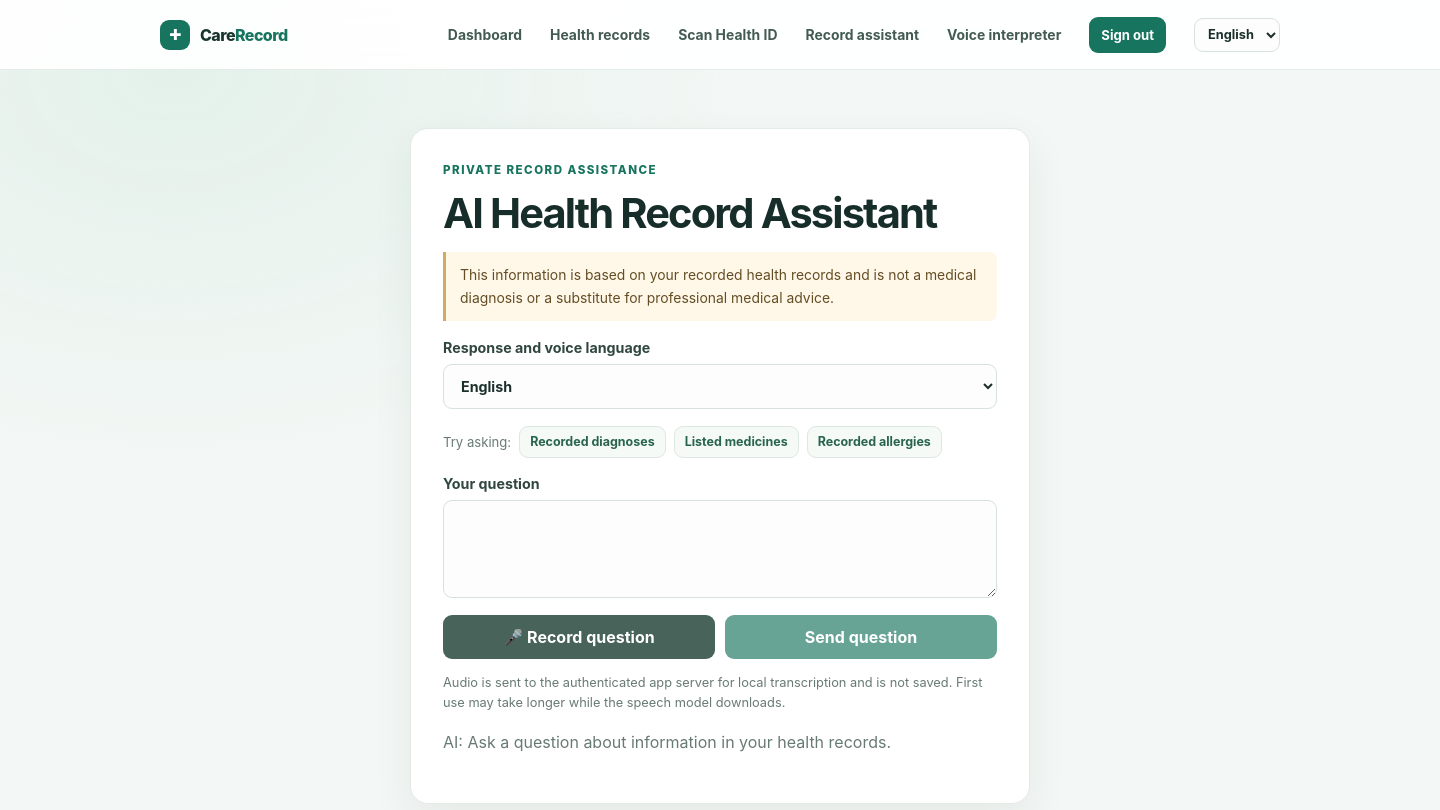
Scenario: patient web flow › does not speak with an unavailable selected-language voice
Select "Telugu" in the dropdown labelled "Response and voice language" at {"x": 720, "y": 386}, box [443,364,997,409]
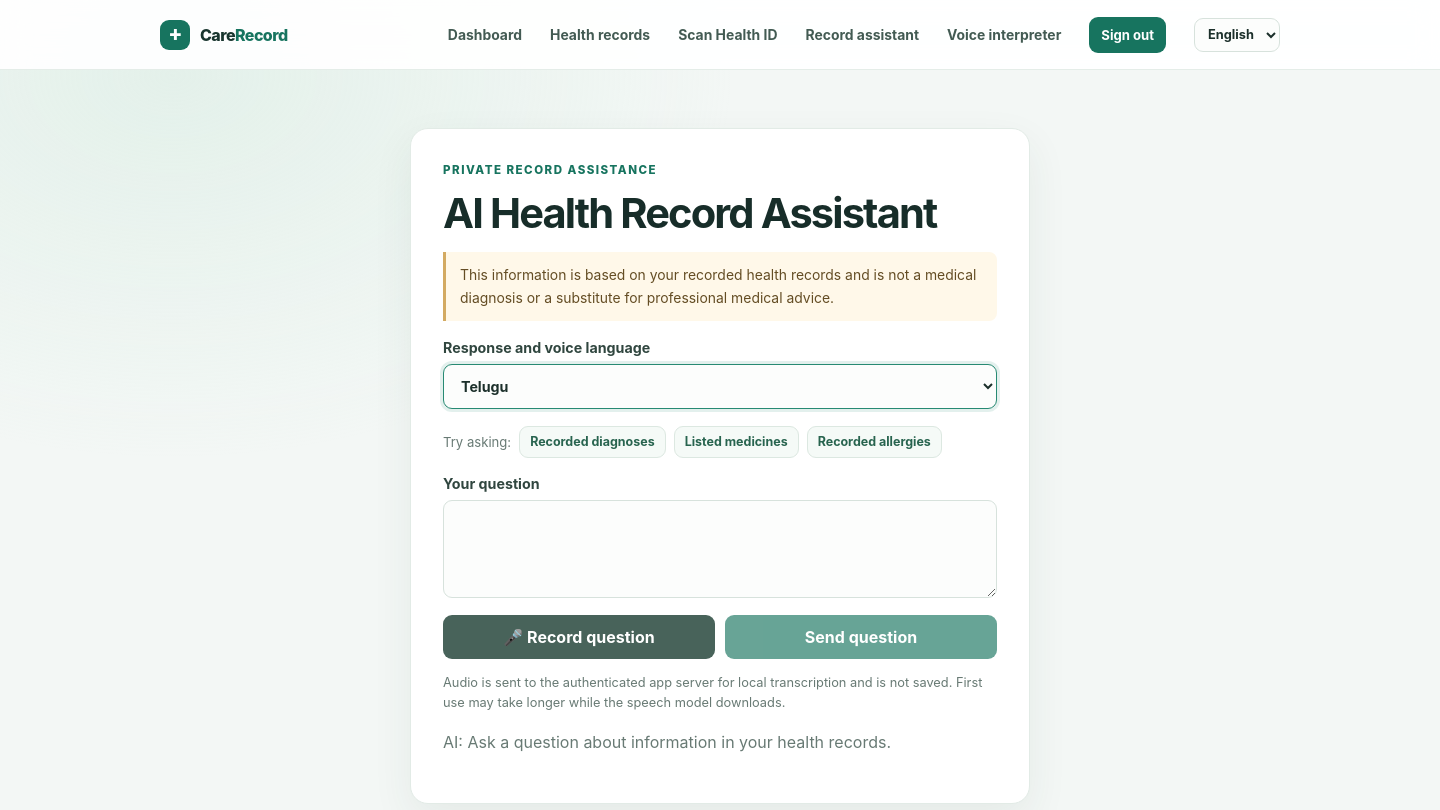
Type "మందులు ఏమిటి?" into the text box labelled "Your question" at {"x": 720, "y": 549}, box [443,500,997,598]
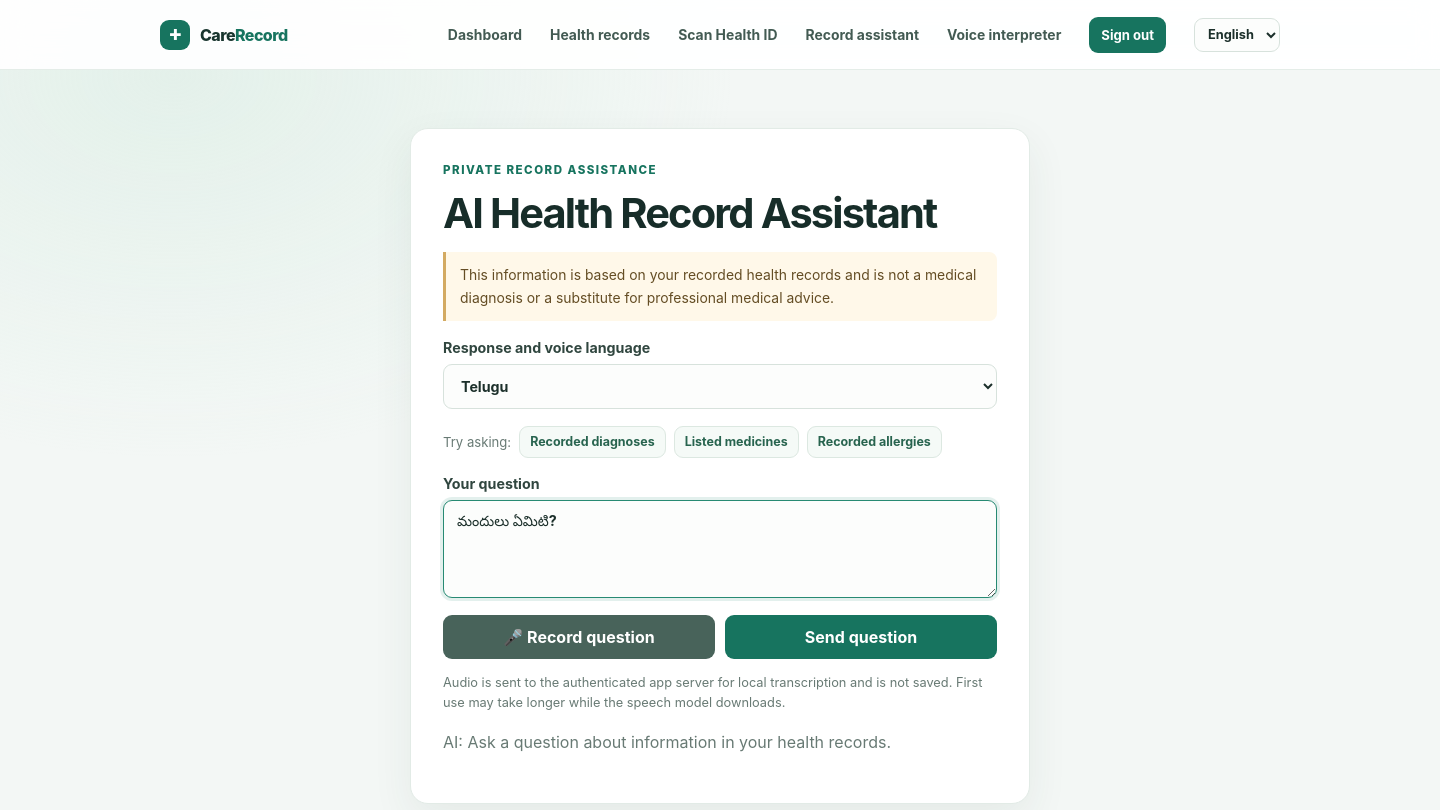
Click the button "Send question" at {"x": 861, "y": 637}, box [725,615,997,659]
(page scrolled)
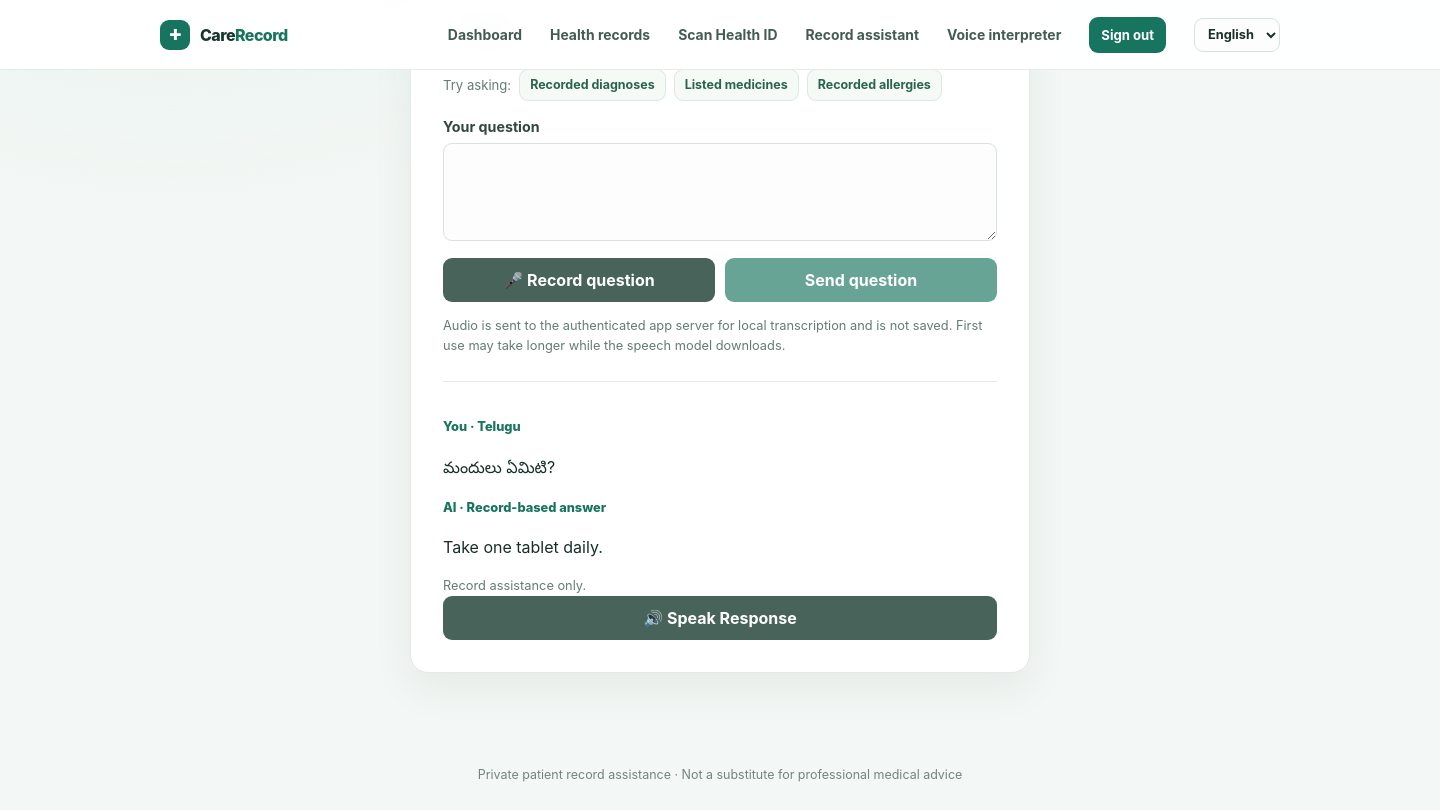
Expected: the text "Take one tablet daily." is shown, [443,538,603,558]
Click the button "🔊 Speak Response" at {"x": 720, "y": 618}, box [443,596,997,640]
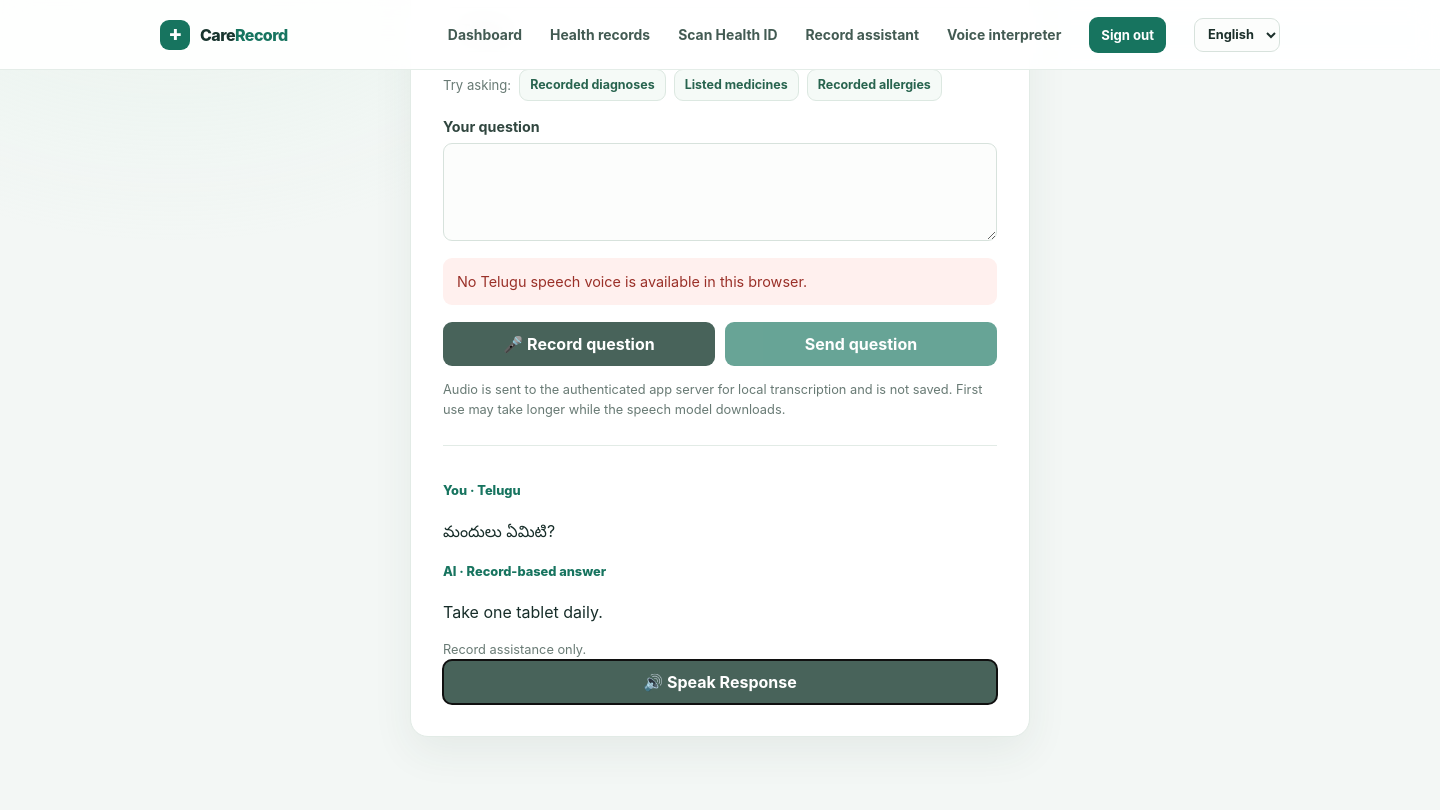
Expected: the message "No Telugu speech voice is available in this browser." is shown, [443,258,997,305]
